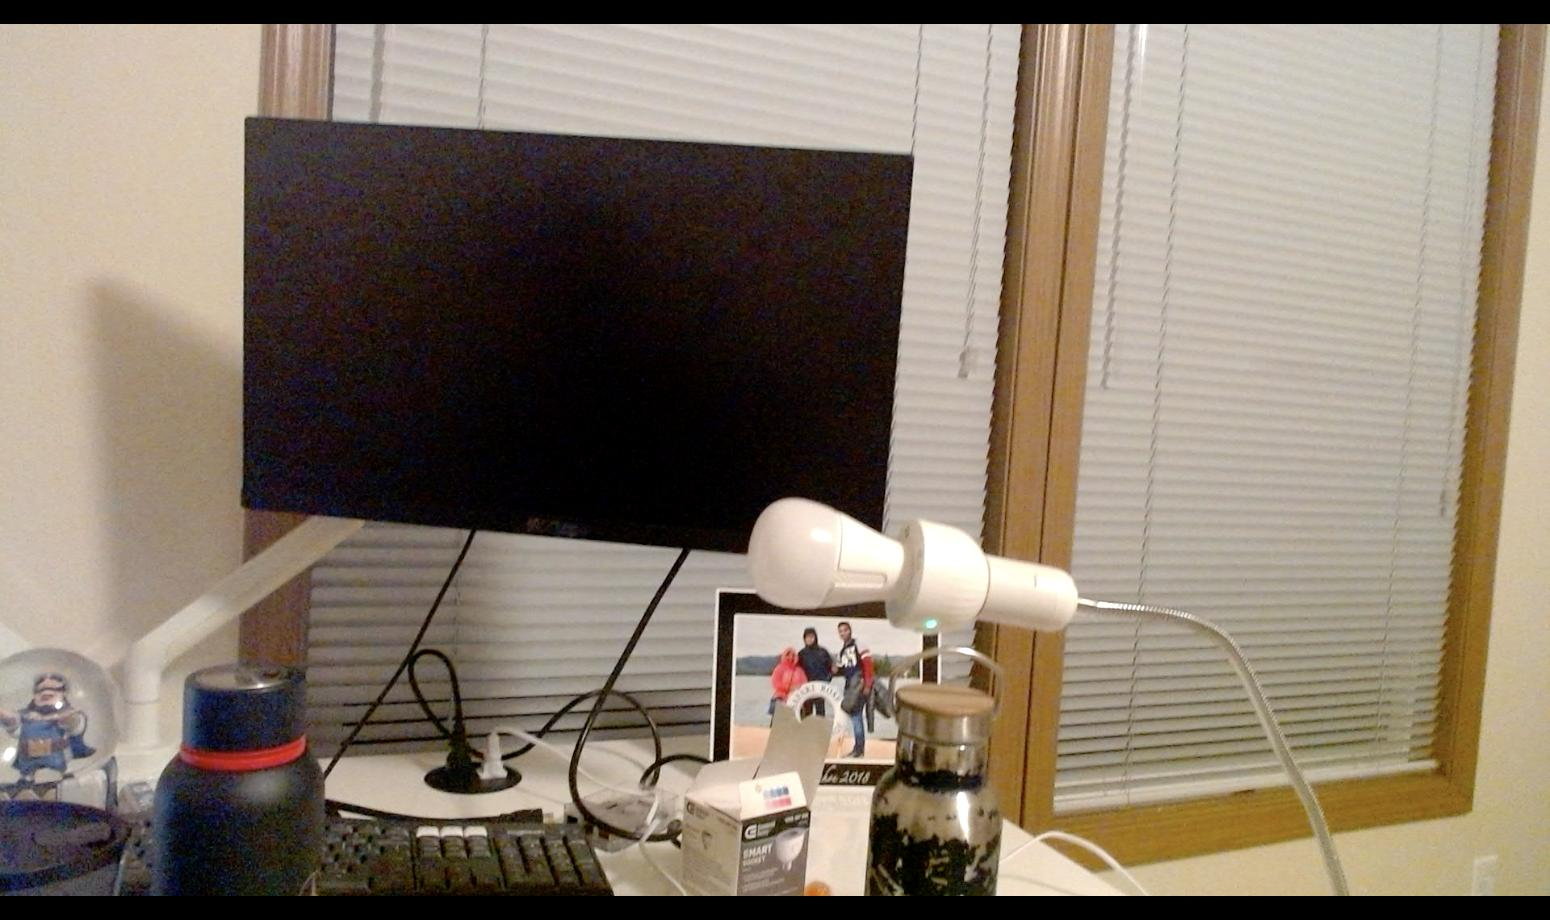Fan: (747, 494, 909, 609)
